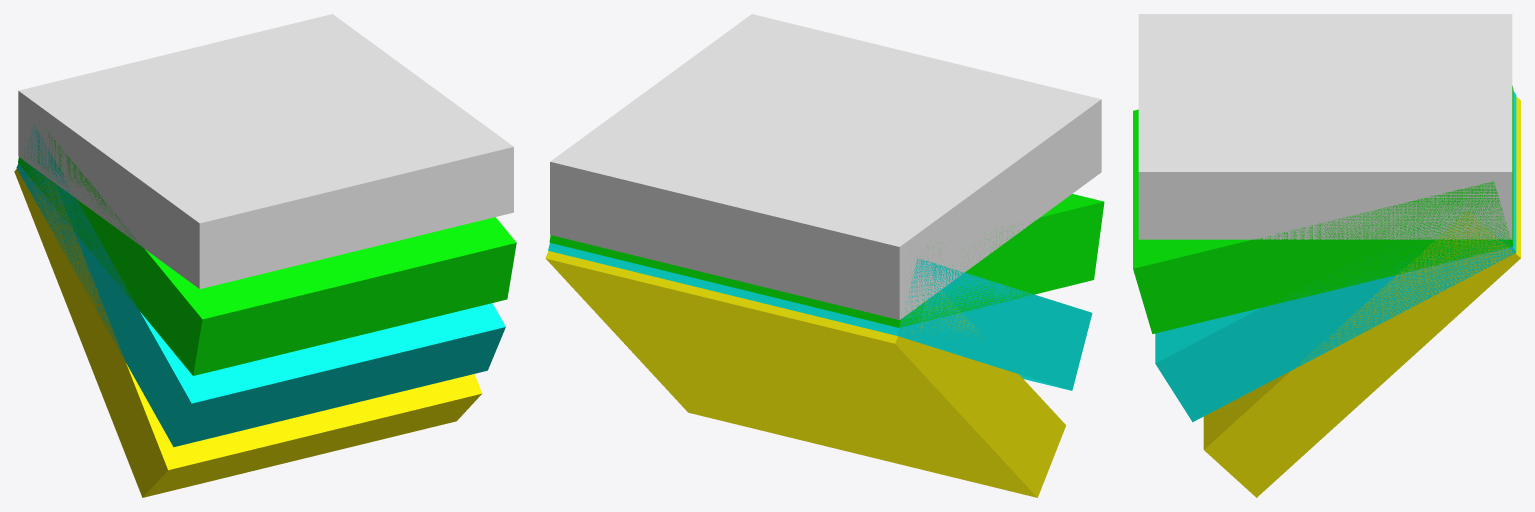
The picture shows the model from 3 angles, left to right: view 1: azimuth 30°, elevation 25°; view 2: azimuth 150°, elevation 25°; view 3: azimuth 270°, elevation 25°; orthographic projection. The views are drawn at different scales.
Size of the model in its own units: 0.005 by 0.00481 by 0.00519.
